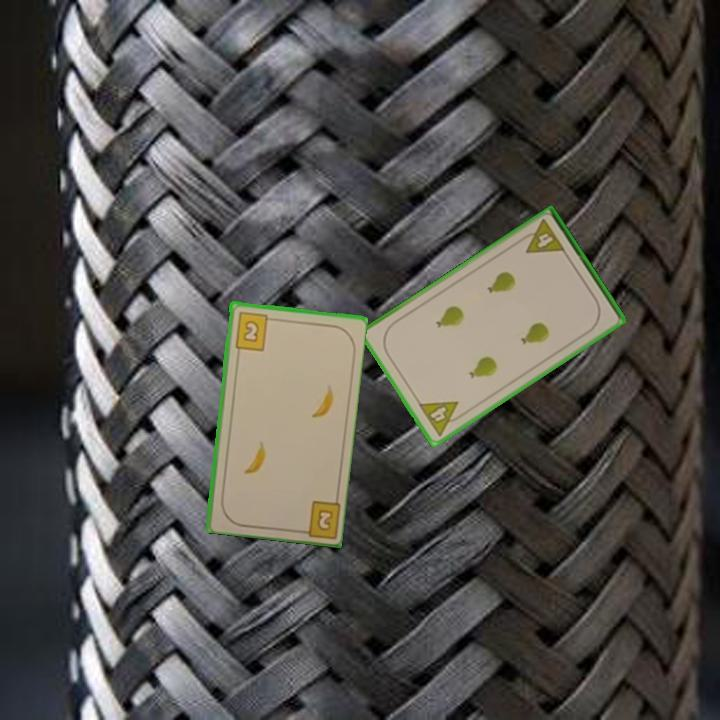2b: (231, 308, 276, 353), (293, 497, 341, 539)
4p: (415, 398, 468, 439), (516, 216, 568, 257)
